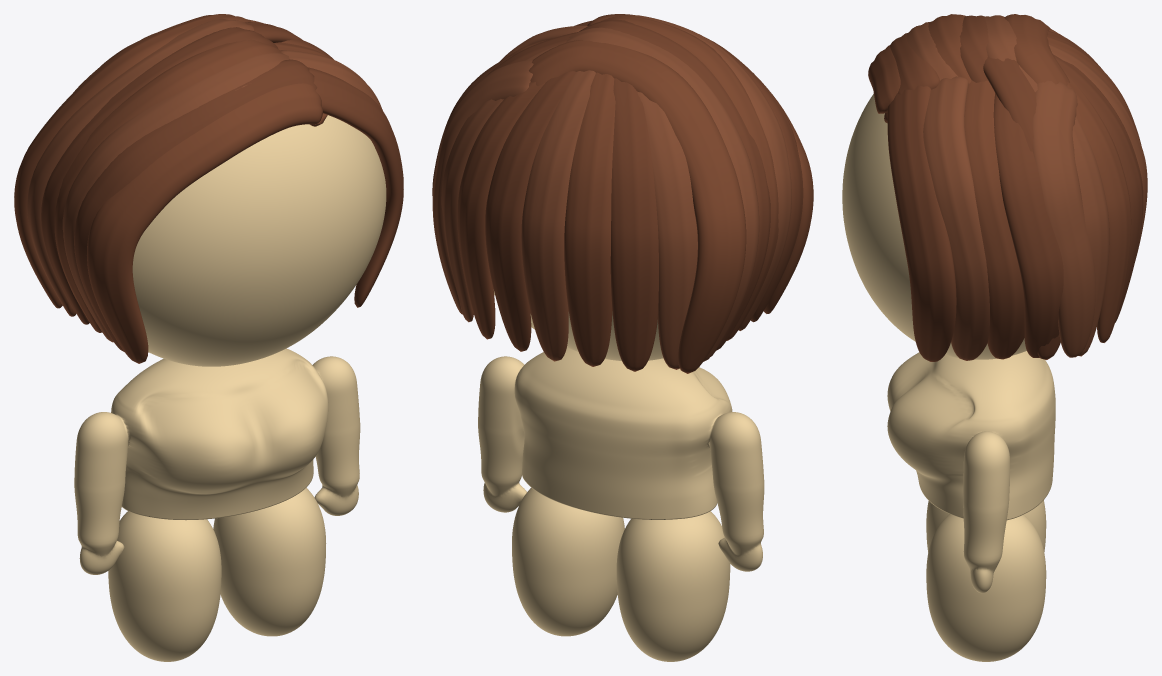
The model's file is Feminine-hands-mitten-base.glb.
3 renders of one model, left to right at view 1: azimuth 30°, elevation 25°; view 2: azimuth 150°, elevation 25°; view 3: azimuth 270°, elevation 25°, orthographic.
Parts seen in each view (by area): view 1: Skin / soft oval head, Skin / rounded torso, Hair / Bob / side sweep 0, Skin / leg blob -1, Skin / leg blob 1, Hair / Bob / side sweep 1, Hair / Bob / side sweep 2, Hair / Bob / side sweep 3, Hair / Bob / side sweep 7, Hair / Bob / side sweep 6, Hair / Bob / side sweep 5, Hair / Bob / side sweep 4 (+2 smaller); view 2: Skin / rounded torso, Hair / Bob / side sweep 6, Skin / leg blob -1, Skin / leg blob 1, Hair / Bob / side sweep 19, Hair / Bob / side sweep 18, Hair / Bob / side sweep 17, Hair / Bob / side sweep 16, Hair / Bob / side sweep 20, Hair / Bob / side sweep 15, Hair / Bob / side sweep 5, Hair / Bob / side sweep 3 (+9 smaller); view 3: Skin / rounded torso, Skin / leg blob 1, Hair / Bob / side sweep 7, Skin / soft oval head, Hair / Bob / side sweep 8, Hair / Bob / side sweep 11, Hair / Bob / side sweep 10, Hair / Bob / side sweep 9, Hair / Bob / side sweep 15, Hair / Bob / side sweep 14, Hair / Bob / side sweep 16, Hair / Bob / side sweep 13 (+10 smaller).
Boxes of the visible parts, left/top/right/bottom form: Skin / soft oval head: left=132, top=115, right=386, bottom=366; Skin / rounded torso: left=74, top=348, right=360, bottom=574; Hair / Bob / side sweep 0: left=87, top=83, right=327, bottom=363; Skin / leg blob -1: left=108, top=511, right=221, bottom=661; Skin / leg blob 1: left=213, top=487, right=326, bottom=636; Hair / Bob / side sweep 1: left=74, top=59, right=317, bottom=351; Hair / Bob / side sweep 2: left=62, top=52, right=289, bottom=342; Hair / Bob / side sweep 3: left=54, top=39, right=281, bottom=332; Hair / Bob / side sweep 7: left=308, top=67, right=403, bottom=307; Hair / Bob / side sweep 6: left=14, top=14, right=250, bottom=308; Hair / Bob / side sweep 5: left=27, top=18, right=253, bottom=316; Hair / Bob / side sweep 4: left=41, top=27, right=278, bottom=324; Skin / rounded torso: left=478, top=347, right=764, bottom=571; Hair / Bob / side sweep 6: left=529, top=40, right=746, bottom=373; Skin / leg blob -1: left=616, top=511, right=730, bottom=661; Skin / leg blob 1: left=512, top=487, right=624, bottom=636; Hair / Bob / side sweep 19: left=610, top=78, right=658, bottom=371; Hair / Bob / side sweep 18: left=564, top=72, right=615, bottom=366; Hair / Bob / side sweep 17: left=521, top=70, right=595, bottom=361; Hair / Bob / side sweep 16: left=485, top=71, right=576, bottom=351; Hair / Bob / side sweep 20: left=637, top=91, right=697, bottom=369; Hair / Bob / side sweep 15: left=457, top=82, right=545, bottom=339; Hair / Bob / side sweep 5: left=565, top=27, right=759, bottom=361; Hair / Bob / side sweep 3: left=600, top=15, right=778, bottom=340; Skin / rounded torso: left=887, top=351, right=1055, bottom=593; Skin / leg blob 1: left=926, top=514, right=1046, bottom=661; Hair / Bob / side sweep 7: left=887, top=85, right=956, bottom=361; Skin / soft oval head: left=842, top=93, right=1026, bottom=359; Hair / Bob / side sweep 8: left=923, top=76, right=989, bottom=360; Hair / Bob / side sweep 11: left=1032, top=80, right=1095, bottom=357; Hair / Bob / side sweep 10: left=993, top=93, right=1063, bottom=357; Hair / Bob / side sweep 9: left=964, top=80, right=1024, bottom=359; Hair / Bob / side sweep 15: left=1067, top=76, right=1131, bottom=342; Hair / Bob / side sweep 14: left=1019, top=65, right=1109, bottom=356; Hair / Bob / side sweep 16: left=1053, top=54, right=1143, bottom=322; Hair / Bob / side sweep 13: left=983, top=57, right=1060, bottom=359.
Bounding box in the file's own units: 1.02 × 1.86 × 0.8526.
